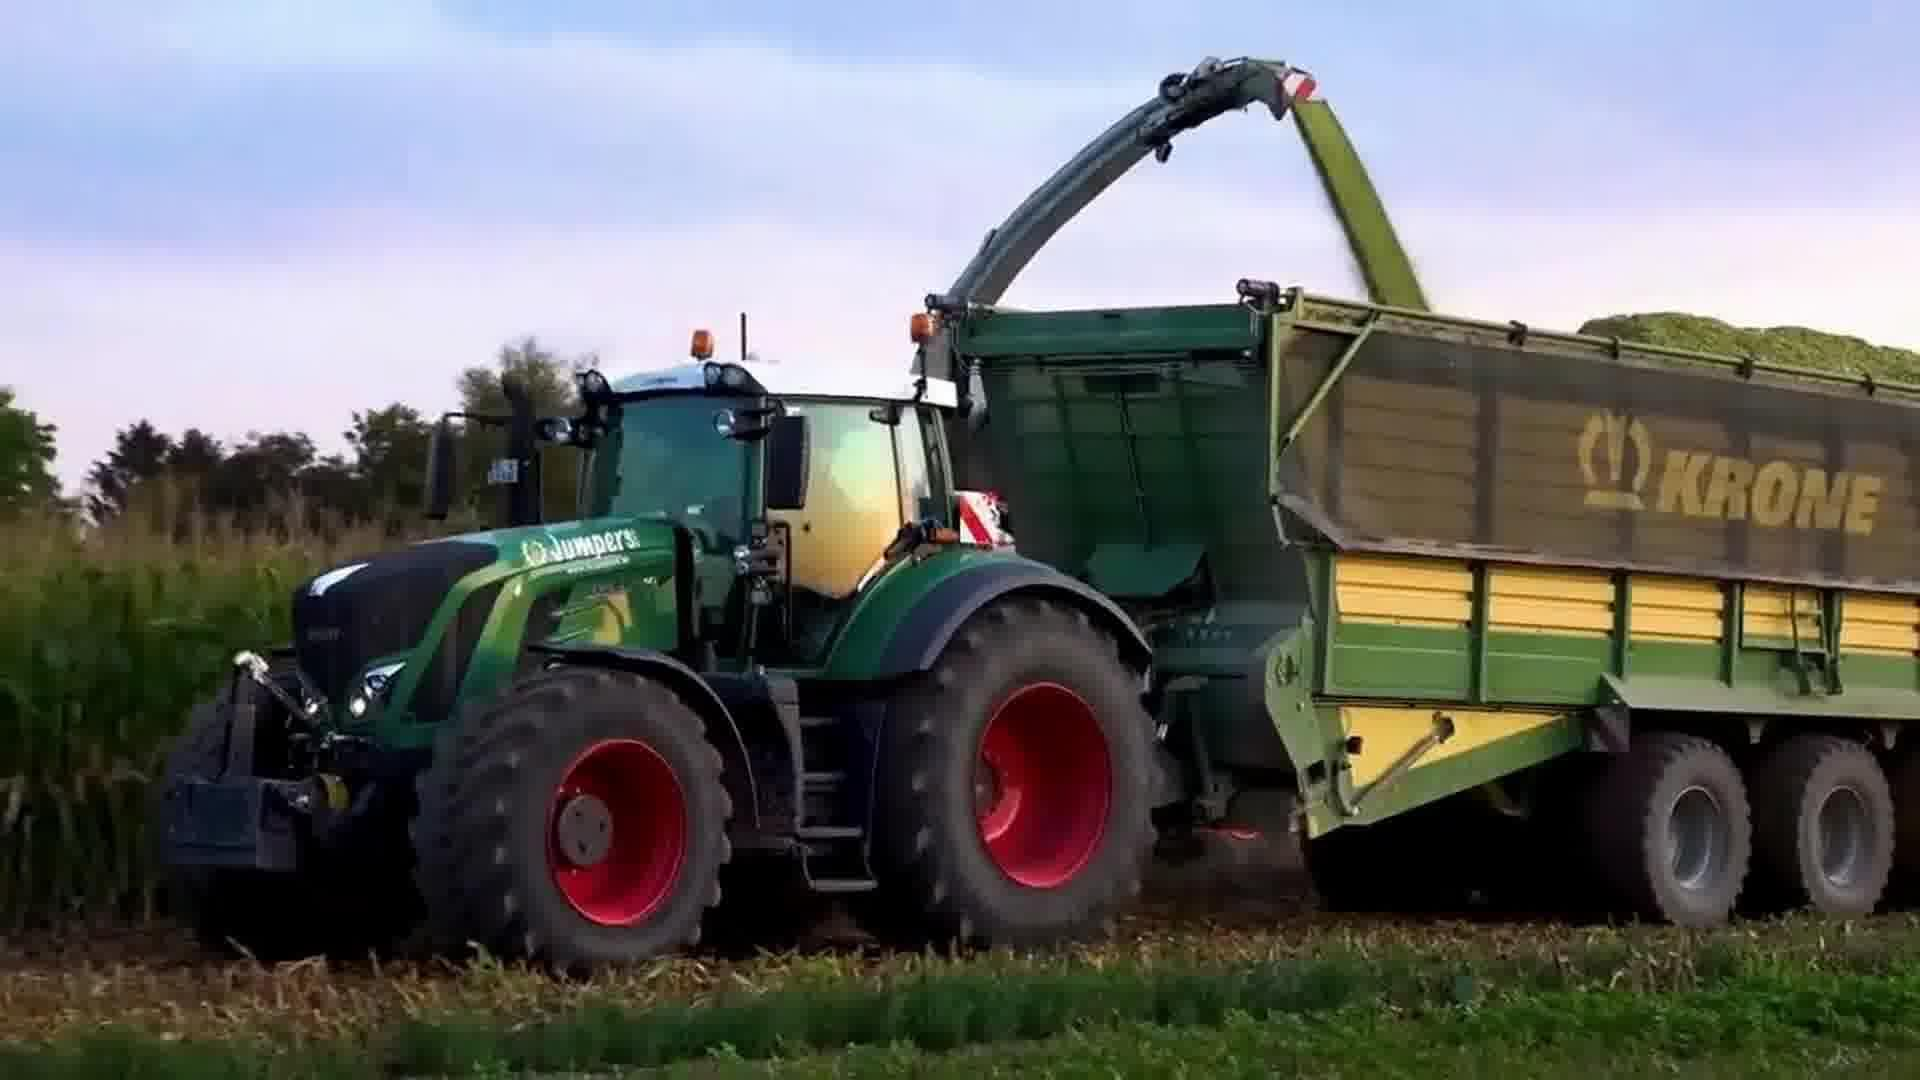tractor: (146, 314, 1187, 981)
trailer: (920, 279, 1920, 936)
